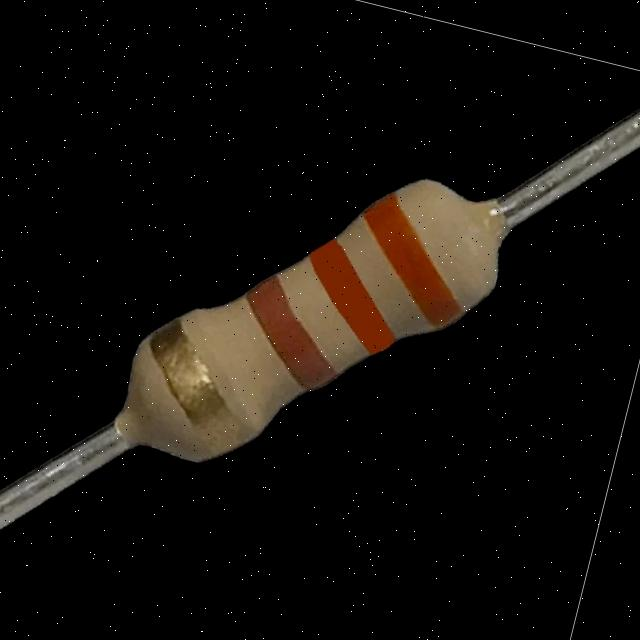brown: (243, 271, 340, 396)
gold: (141, 315, 254, 461)
orange: (353, 179, 469, 334), (307, 234, 398, 357)
resistor: (90, 121, 565, 493)
